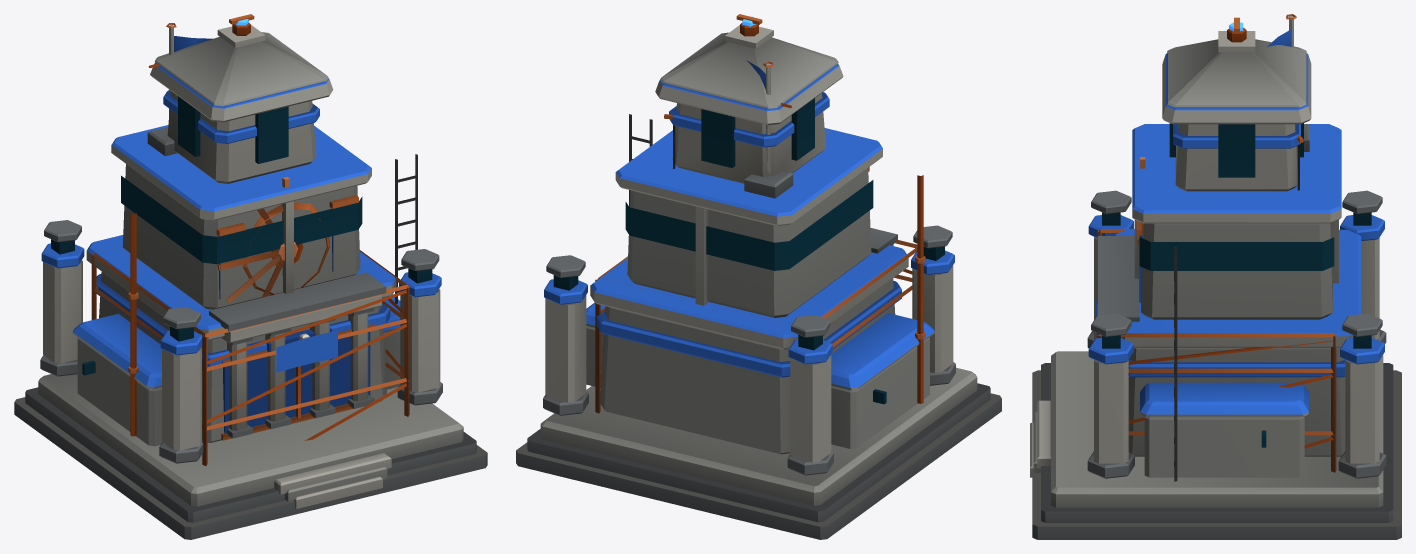
3 views of the same model, side by side, from view 1: azimuth 30°, elevation 25°; view 2: azimuth 150°, elevation 25°; view 3: azimuth 270°, elevation 25° (orthographic). The views are drawn at different scales.
Parts seen in each view (by area): view 1: body, scaffoldFrame, swayBanner; view 2: body, scaffoldFrame; view 3: body, scaffoldFrame.
Boxes of the visible parts, x1,y1,x2,y2 form: body: (14,23,487,539); scaffoldFrame: (91,249,409,465); swayBanner: (276,330,337,372); body: (516,25,1001,539); scaffoldFrame: (595,239,917,413); body: (1030,14,1401,539); scaffoldFrame: (1097,229,1336,472).
Size of the model in its own units: 3 by 3.93 by 3.02.
